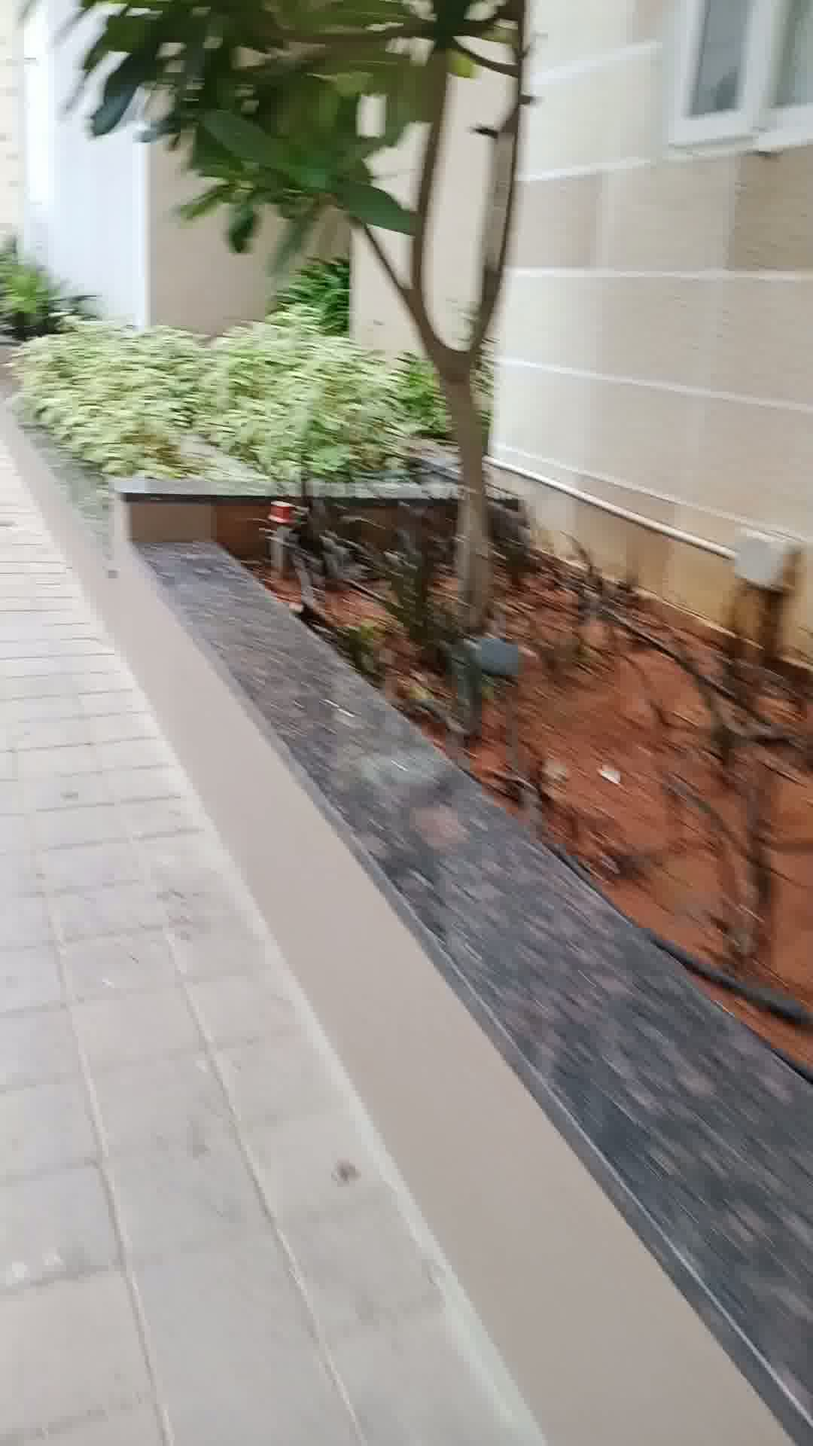tree: (74, 3, 592, 754)
